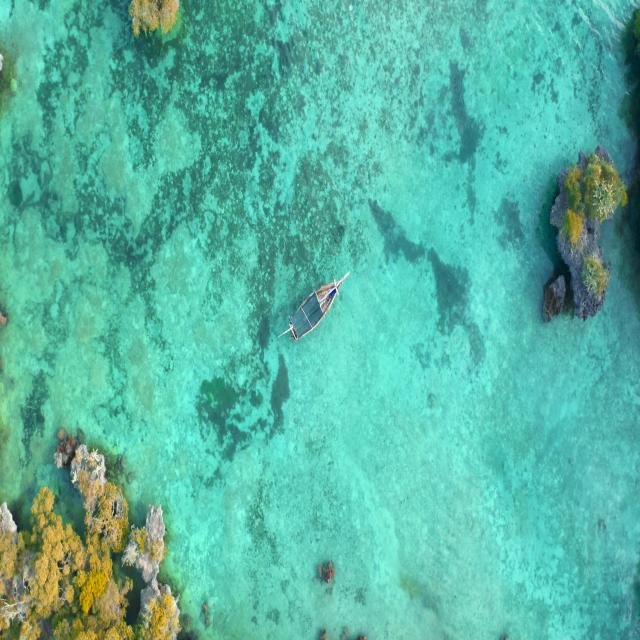ship: (276, 253, 352, 344)
